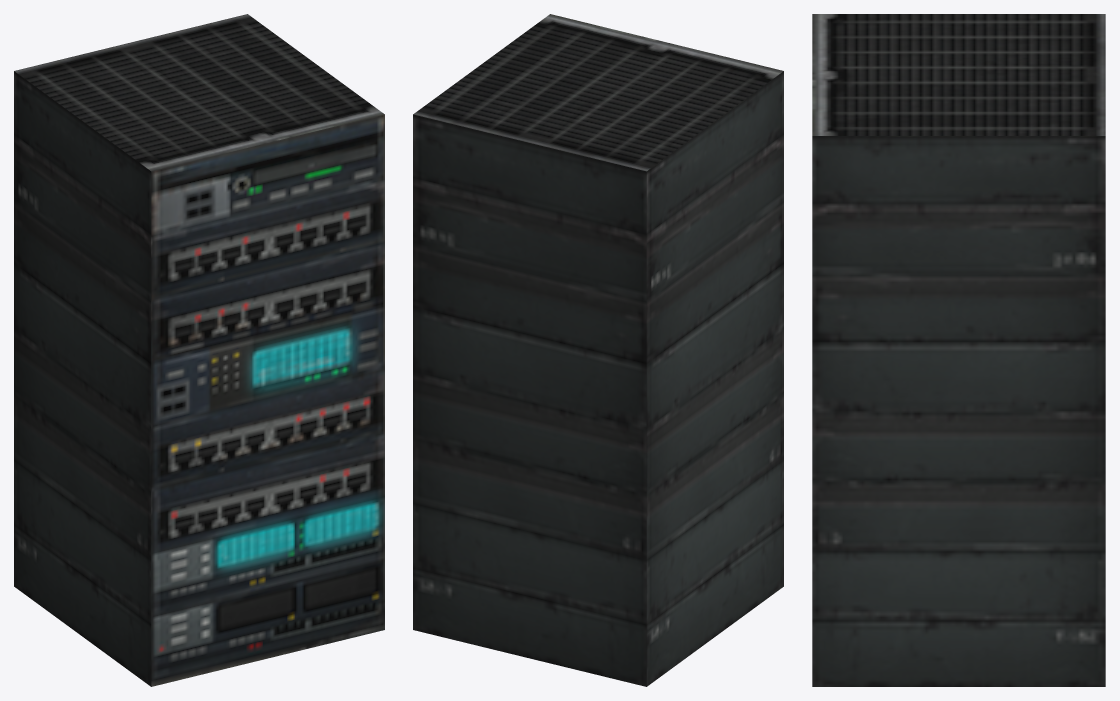
The model's file is armario-internoPACK2-2.fbx.
The picture shows the model from 3 angles, left to right: view 1: azimuth 30°, elevation 25°; view 2: azimuth 150°, elevation 25°; view 3: azimuth 270°, elevation 25°; orthographic projection. The views are drawn at different scales.
Visible parts, largest first — view 1: Cylinder; view 2: Cylinder; view 3: Cylinder.
Boxes of the visible parts, x1=… form: Cylinder: x1=14, y1=14, x2=384, y2=686; Cylinder: x1=413, y1=14, x2=783, y2=686; Cylinder: x1=812, y1=14, x2=1105, y2=686.
Size of the model in its own units: 0.975 by 2.06 by 0.992.
